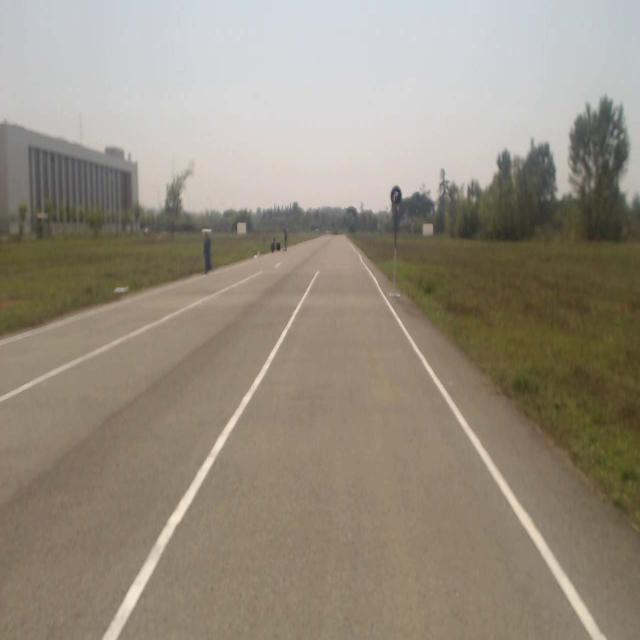sag: (391, 186, 401, 203)
